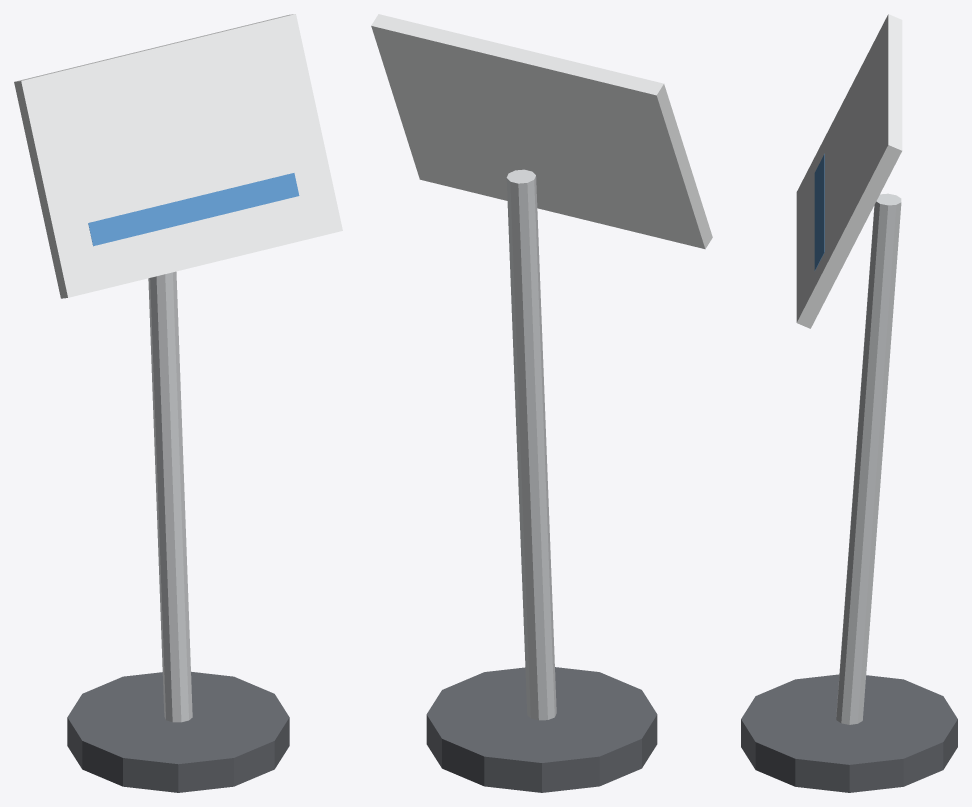
The model's file is solar-system-and-astronauts-label-stand-7b379cfb__39258.glb.
3 renders of one model, left to right at view 1: azimuth 30°, elevation 25°; view 2: azimuth 150°, elevation 25°; view 3: azimuth 270°, elevation 25°, orthographic. The views are drawn at different scales.
Parts seen in each view (by area): view 1: label-stand; view 2: label-stand; view 3: label-stand.
Boxes of the visible parts, x1,y1,x2,y2 form: label-stand: (14,14,342,792); label-stand: (371,14,712,792); label-stand: (741,14,957,792).
Size of the model in its own units: 0.4 by 0.9511 by 0.28.
